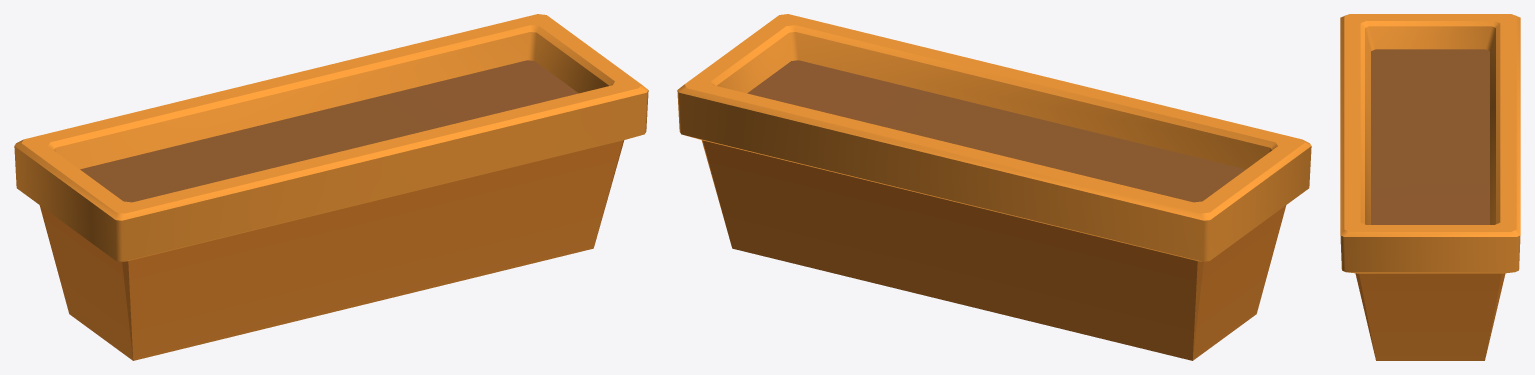
Rendered from PlantPot_3_C.fbx.
3 renders of one model, left to right at view 1: azimuth 30°, elevation 25°; view 2: azimuth 150°, elevation 25°; view 3: azimuth 270°, elevation 25°, orthographic. The views are drawn at different scales.
Parts seen in each view (by area): view 1: PlantPot_3_C; view 2: PlantPot_3_C; view 3: PlantPot_3_C.
Boxes of the visible parts, bbox=[...] form: PlantPot_3_C: bbox=[14, 14, 648, 360]; PlantPot_3_C: bbox=[677, 14, 1311, 360]; PlantPot_3_C: bbox=[1340, 14, 1520, 360].
Size of the model in its own units: 79.88 by 24 by 27.48.
